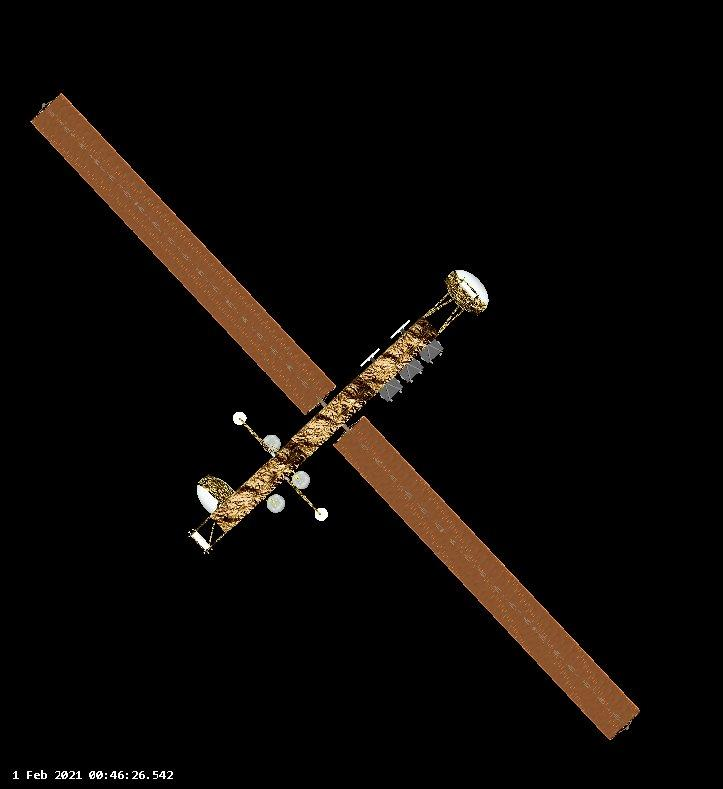antenna: (440, 265, 493, 315), (182, 522, 218, 560), (192, 482, 227, 515), (387, 315, 413, 345), (289, 465, 315, 494), (262, 490, 289, 516), (259, 429, 284, 456), (357, 343, 381, 368), (309, 504, 332, 525), (229, 408, 249, 427)
body: (204, 310, 446, 538)
solar: (329, 412, 647, 747), (27, 84, 342, 421)
